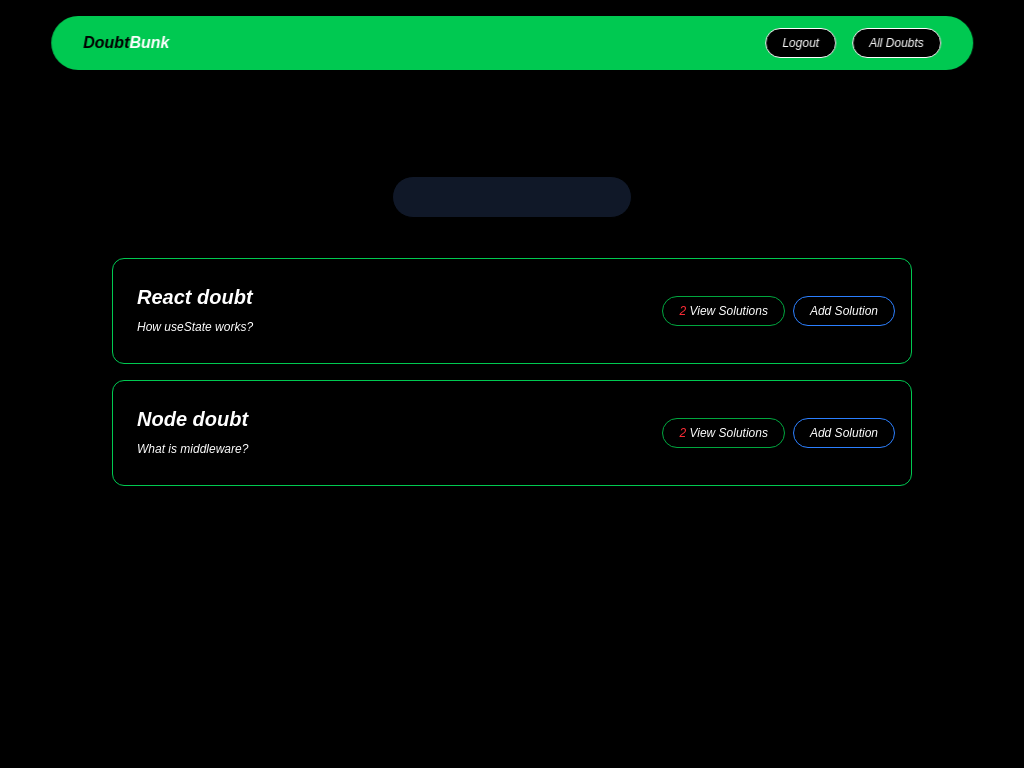
Test: DoubtBunk - Doubts Page › Opens Add Solution modal
Click the button "Add Solution" in the row of "How useState works?": (844, 311) 793,296 -> 895,326
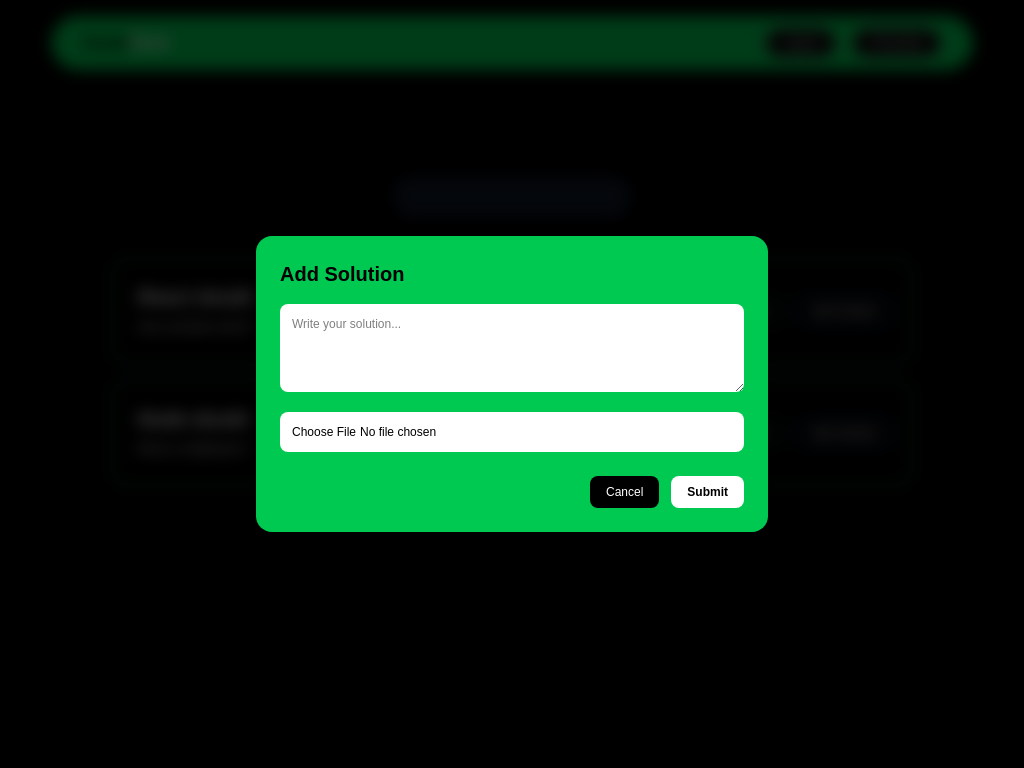
Now the text box named "text" is shown, box 280,304 -> 744,392
